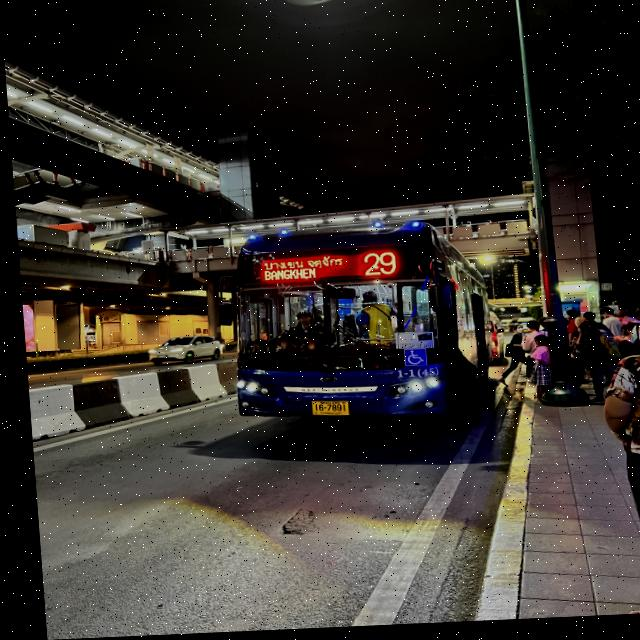Bus-Line-Number: (355, 251, 396, 283)
Destination-Sign-Normal: (254, 255, 347, 288)
TSB-Bus: (219, 225, 487, 433)
